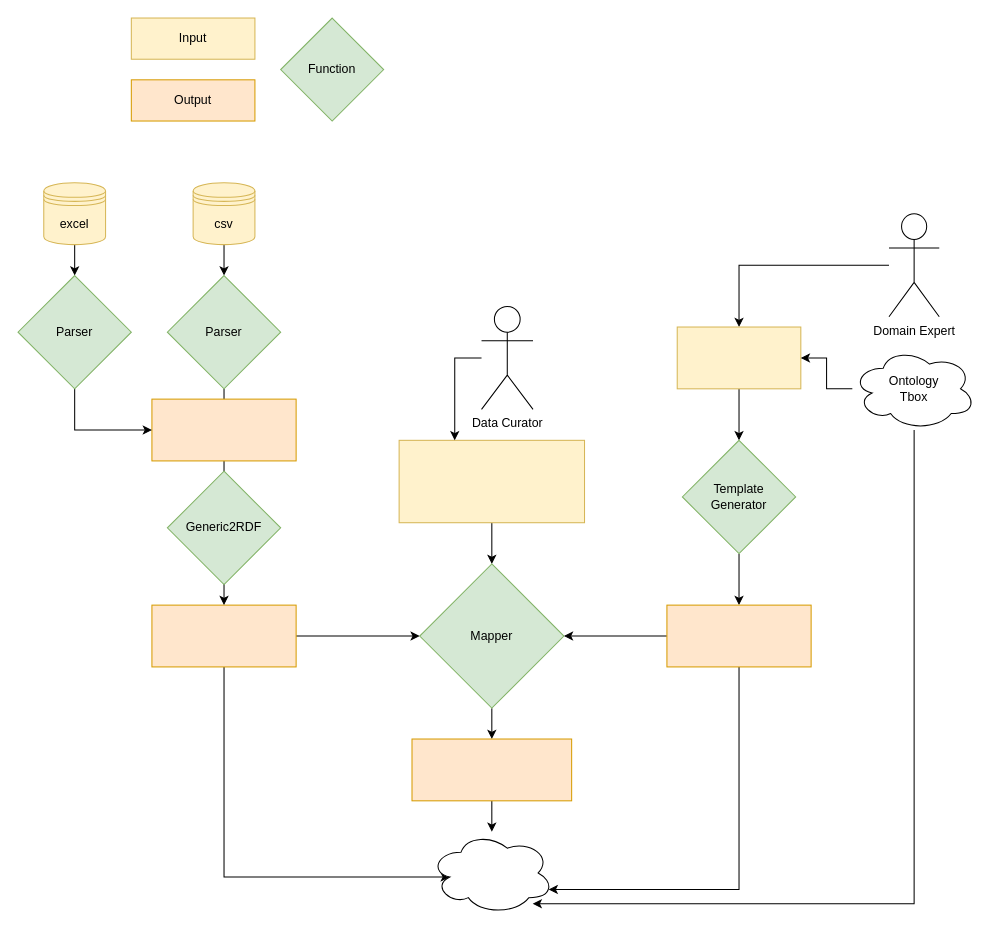
Image size: 994x932. Some labels were removed from this diagram. The box of each missing label's shape, as (x1, y1, x2, y2) in pixels:
*.generic.xlsx: (151, 398, 296, 461)
*.metadata.ttl: (151, 604, 296, 667)
ABox Data Model: (676, 326, 801, 389)
ABox_template.ttl Abox: (666, 604, 811, 667)
mapping.ttl: (411, 738, 572, 801)
mapping.xlsx: (398, 439, 585, 523)
Tripple store: (429, 831, 554, 914)
